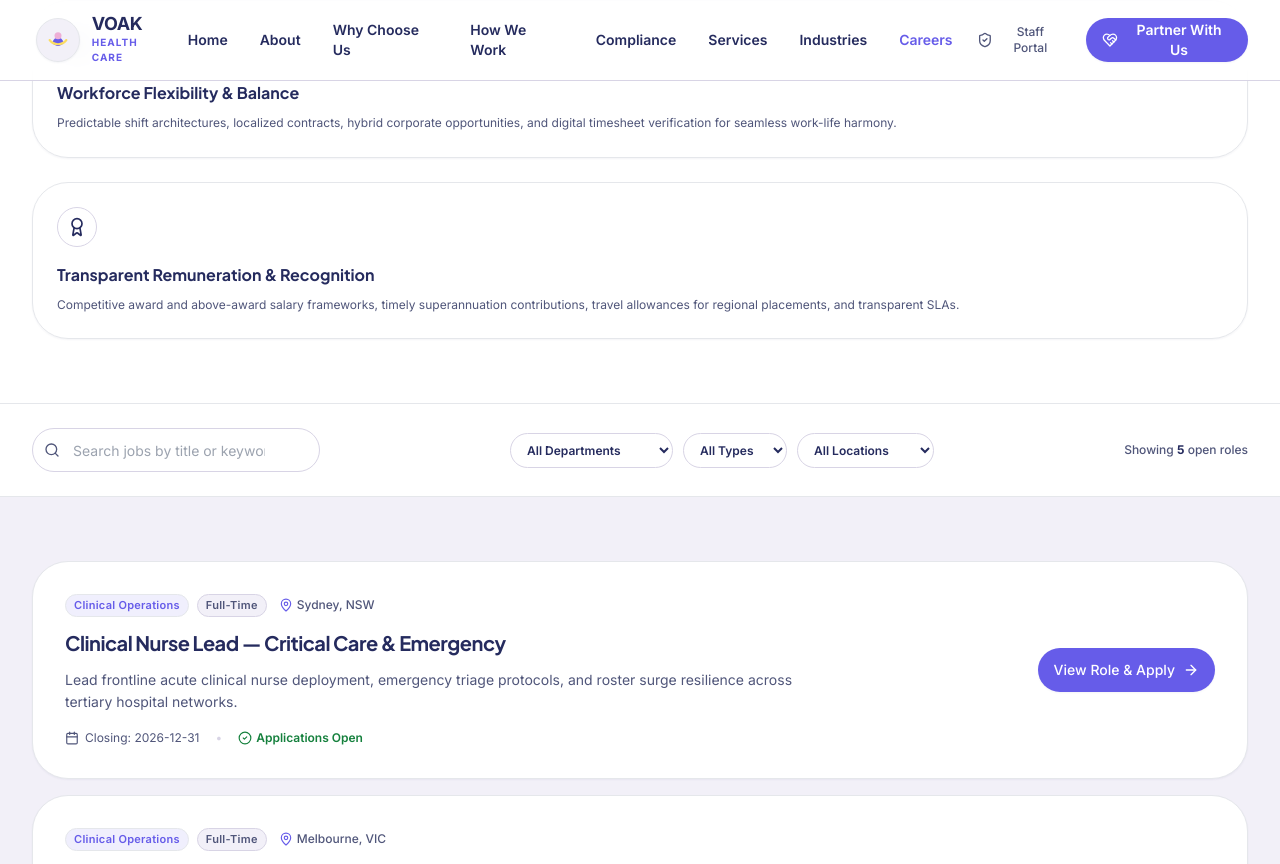
Test: Phase 23 — Careers Portal Suite › PAGE-PUB-12: Careers Overview Directory (/careers) › filters jobs by department dropdown
The image size is (1280, 864).
(page scrolled)
Select "Clinical Governance" in the dropdown named "Filter by department" at (592,450), box [510,432,673,468]
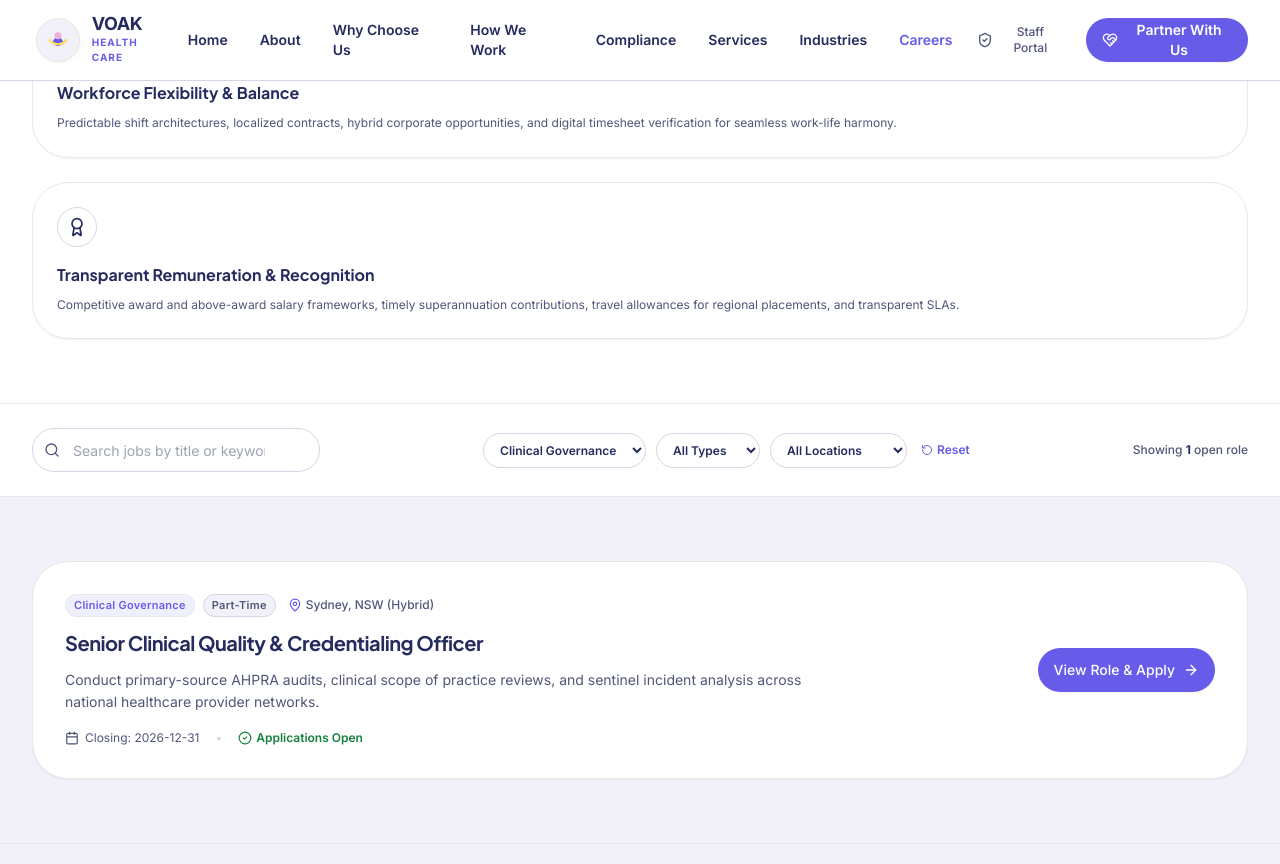
Expected: the link "Senior Clinical Quality & Credentialing Officer" is shown, [65,630,483,654]
Result: the element named "Job openings count" reads "Showing 1 open role" at [1133,442,1248,458]
Result: the link "Clinical Nurse Lead — Critical Care & Emergency" is gone
